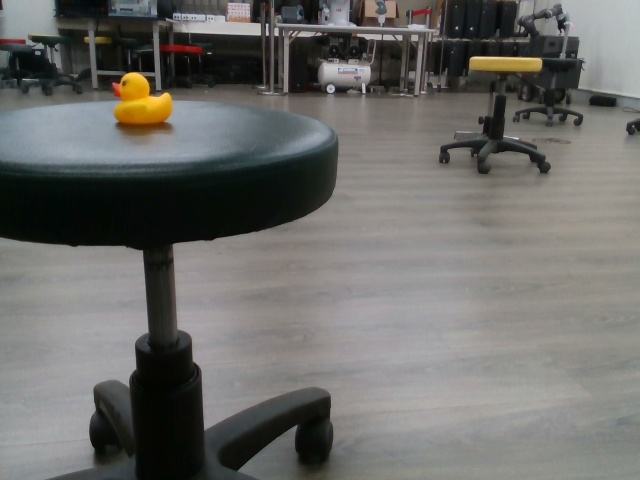duck: (108, 71, 174, 125)
